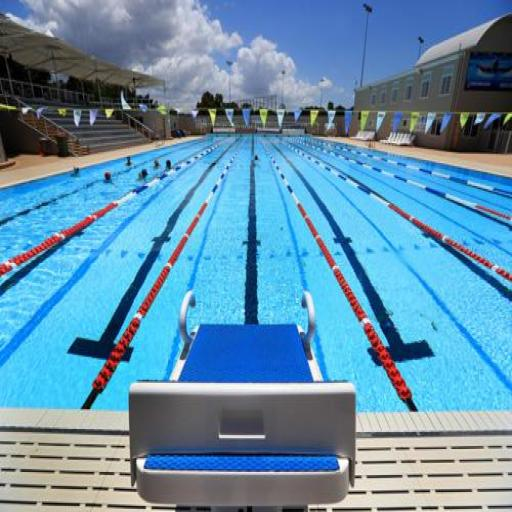swimming: (159, 155, 176, 180), (135, 164, 151, 184), (100, 168, 115, 188)
